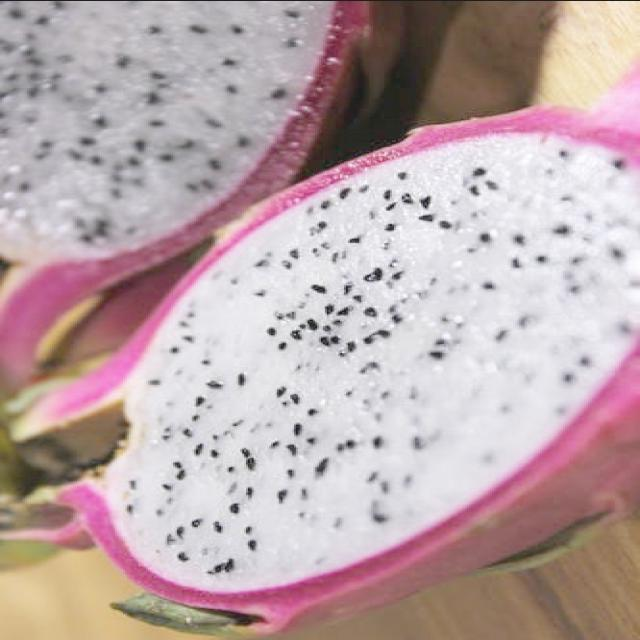trang: (41, 94, 639, 640), (1, 2, 377, 394)
